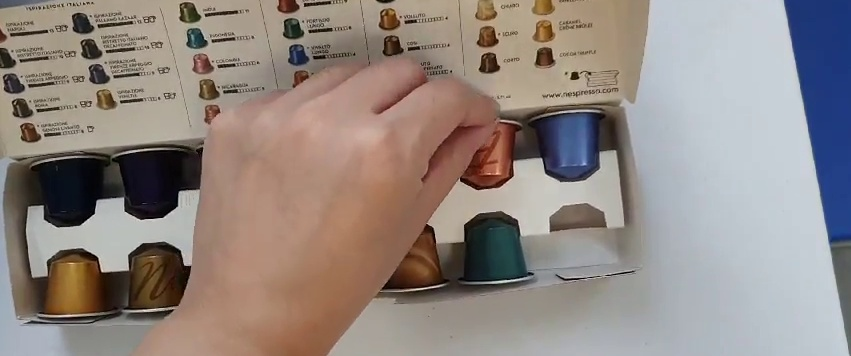capsule_6: (453, 117, 524, 192)
